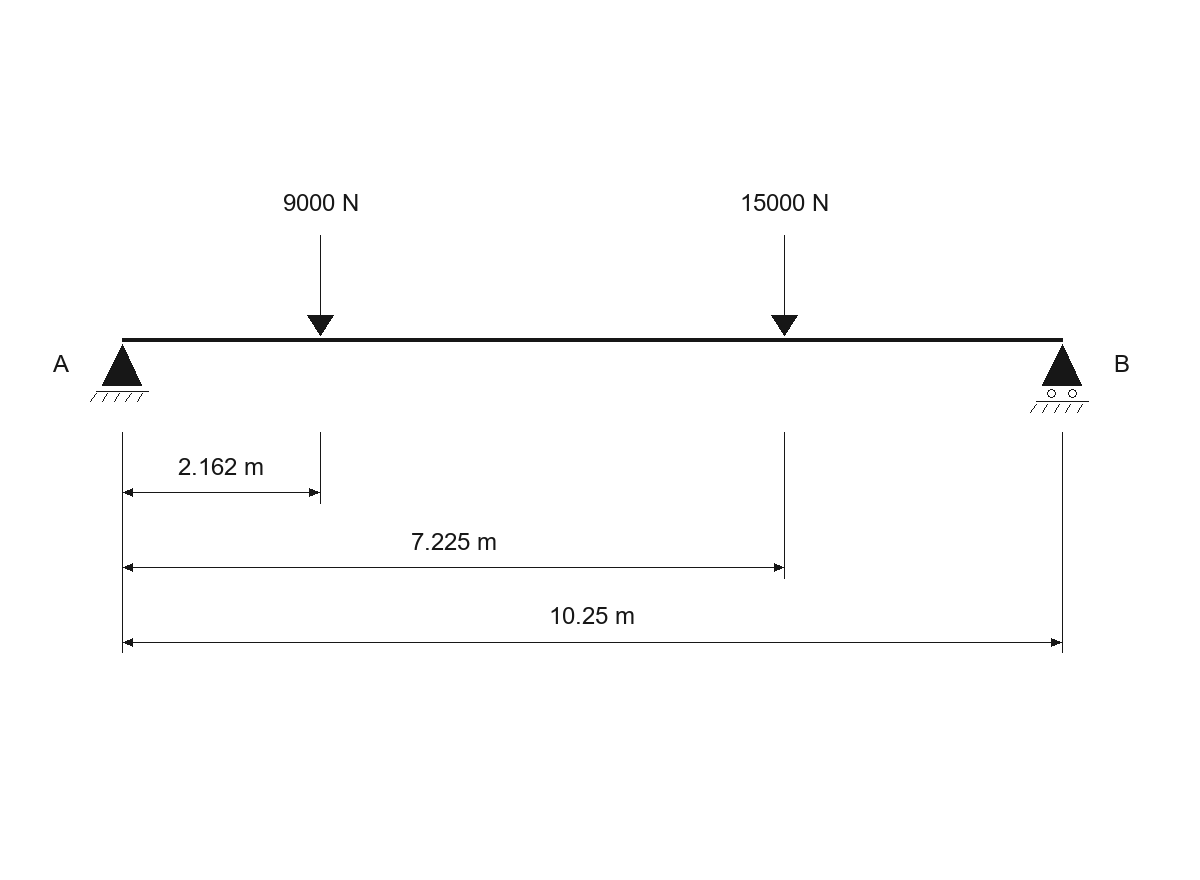pin_support: (90, 344, 149, 402)
point_load: (307, 235, 334, 336), (771, 235, 798, 336)
roller_support: (1030, 344, 1089, 413)
